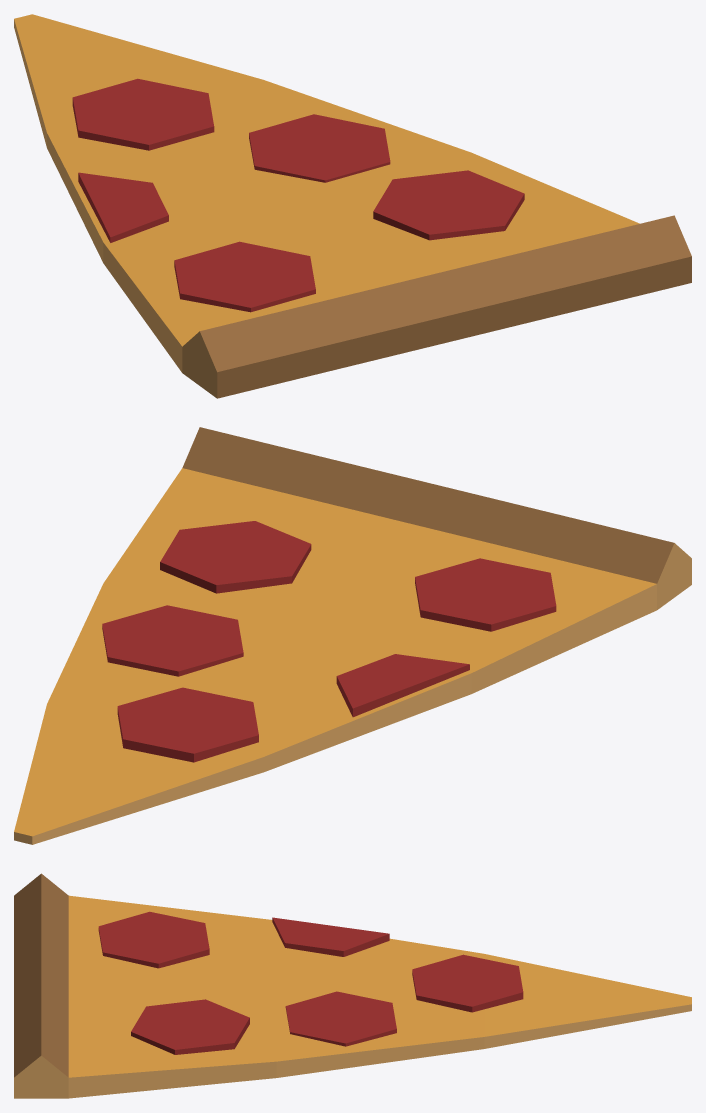
Rendered from HP_Pizza.fbx.
3 renders of one model, top to bottom at view 1: azimuth 30°, elevation 25°; view 2: azimuth 150°, elevation 25°; view 3: azimuth 270°, elevation 25°, orthographic. The views are drawn at different scales.
Visible parts, largest first — view 1: Pizza; view 2: Pizza; view 3: Pizza.
Boxes of the visible parts, x1,y1,x2,y2 form: Pizza: (14, 14, 691, 398); Pizza: (14, 427, 691, 844); Pizza: (14, 873, 691, 1098).
Bounding box in the file's own units: 27.9 × 3.07 × 43.9.
